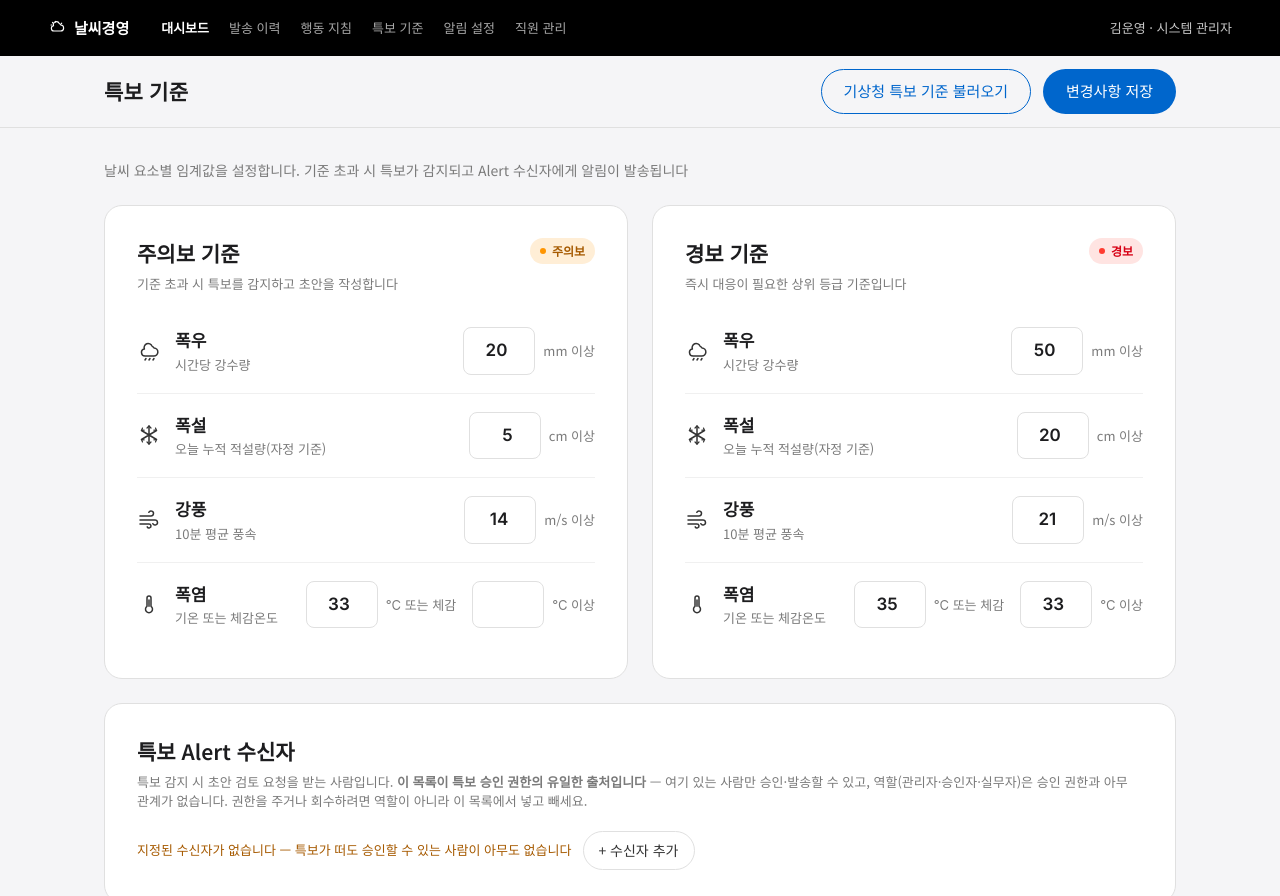
Scenario: Criteria 기준 값 검증 (W-10) › 서버가 준 값에 필수 키가 없으면 빈 칸으로 두고 저장을 막는다
The image size is (1280, 896).
Expected: the number field named "주의보 폭염 기준 · 기온 또는 체감온도 (℃ 이상)" is empty, top-left (472, 580), bottom-right (544, 628)
Click the button "변경사항 저장" at coordinates (1110, 92), box top-left (1043, 69), bottom-right (1176, 114)
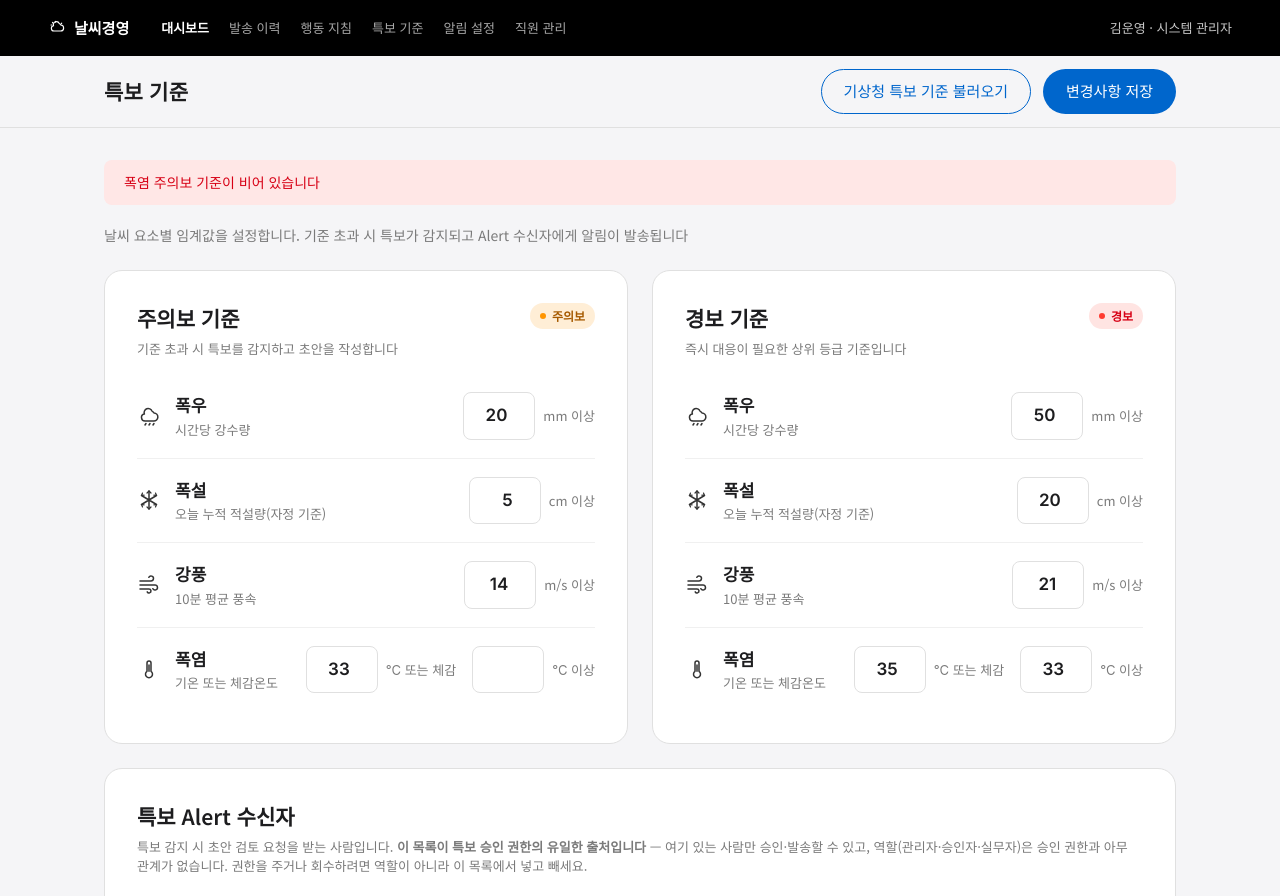
Now the text "폭염 주의보 기준이 비어 있습니다" is shown, box top-left (104, 160), bottom-right (1176, 205)
